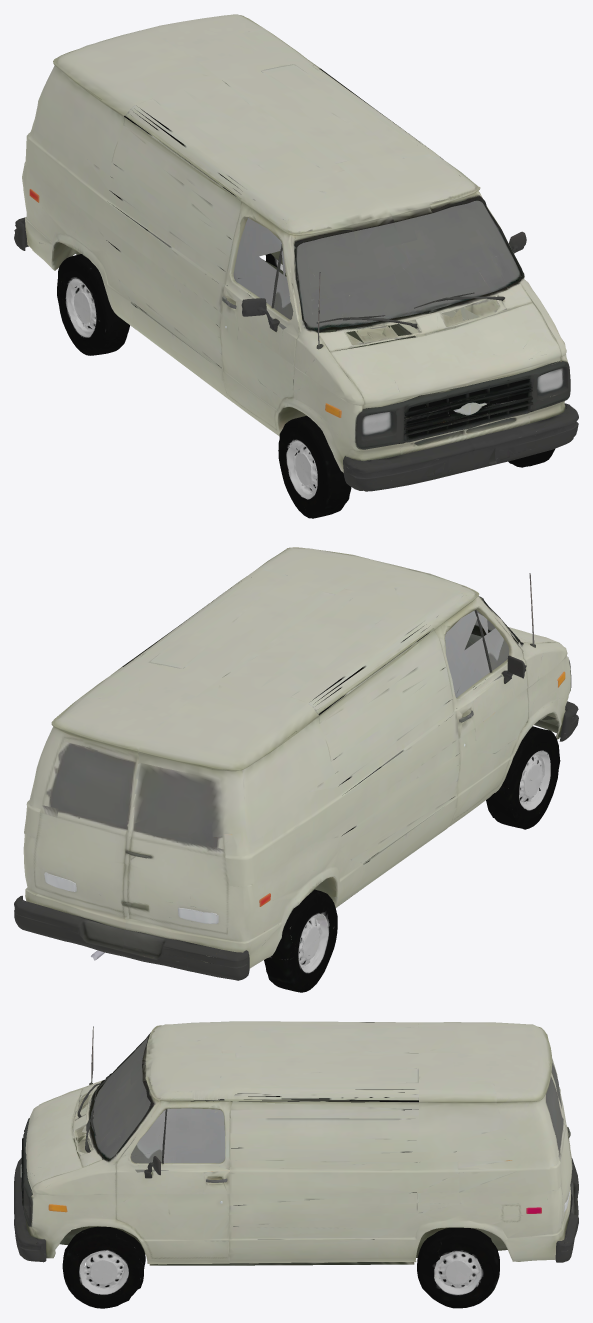
Rendered from van-v1.glb.
3 renders of one model, top to bottom at view 1: azimuth 30°, elevation 25°; view 2: azimuth 150°, elevation 25°; view 3: azimuth 270°, elevation 25°, orthographic. The views are drawn at different scales.
Parts seen in each view (by area): view 1: body, wheel_fl_mesh, wheel_rl_mesh; view 2: body, wheel_rl_mesh, wheel_fl_mesh; view 3: body, wheel_rr_mesh, wheel_fr_mesh.
Part boxes in pixels (x1,y1,x2,y2): body: (14,14,578,491); wheel_fl_mesh: (278,415,351,518); wheel_rl_mesh: (57,254,129,355); body: (14,547,578,980); wheel_rl_mesh: (264,889,337,992); wheel_fl_mesh: (486,726,560,829); body: (14,1021,578,1265); wheel_rr_mesh: (417,1227,499,1308); wheel_fr_mesh: (62,1226,145,1308).
Size of the model in its own units: 0.4438 by 0.3926 by 0.9507.
Materials: 1 (1 with a texture image).
